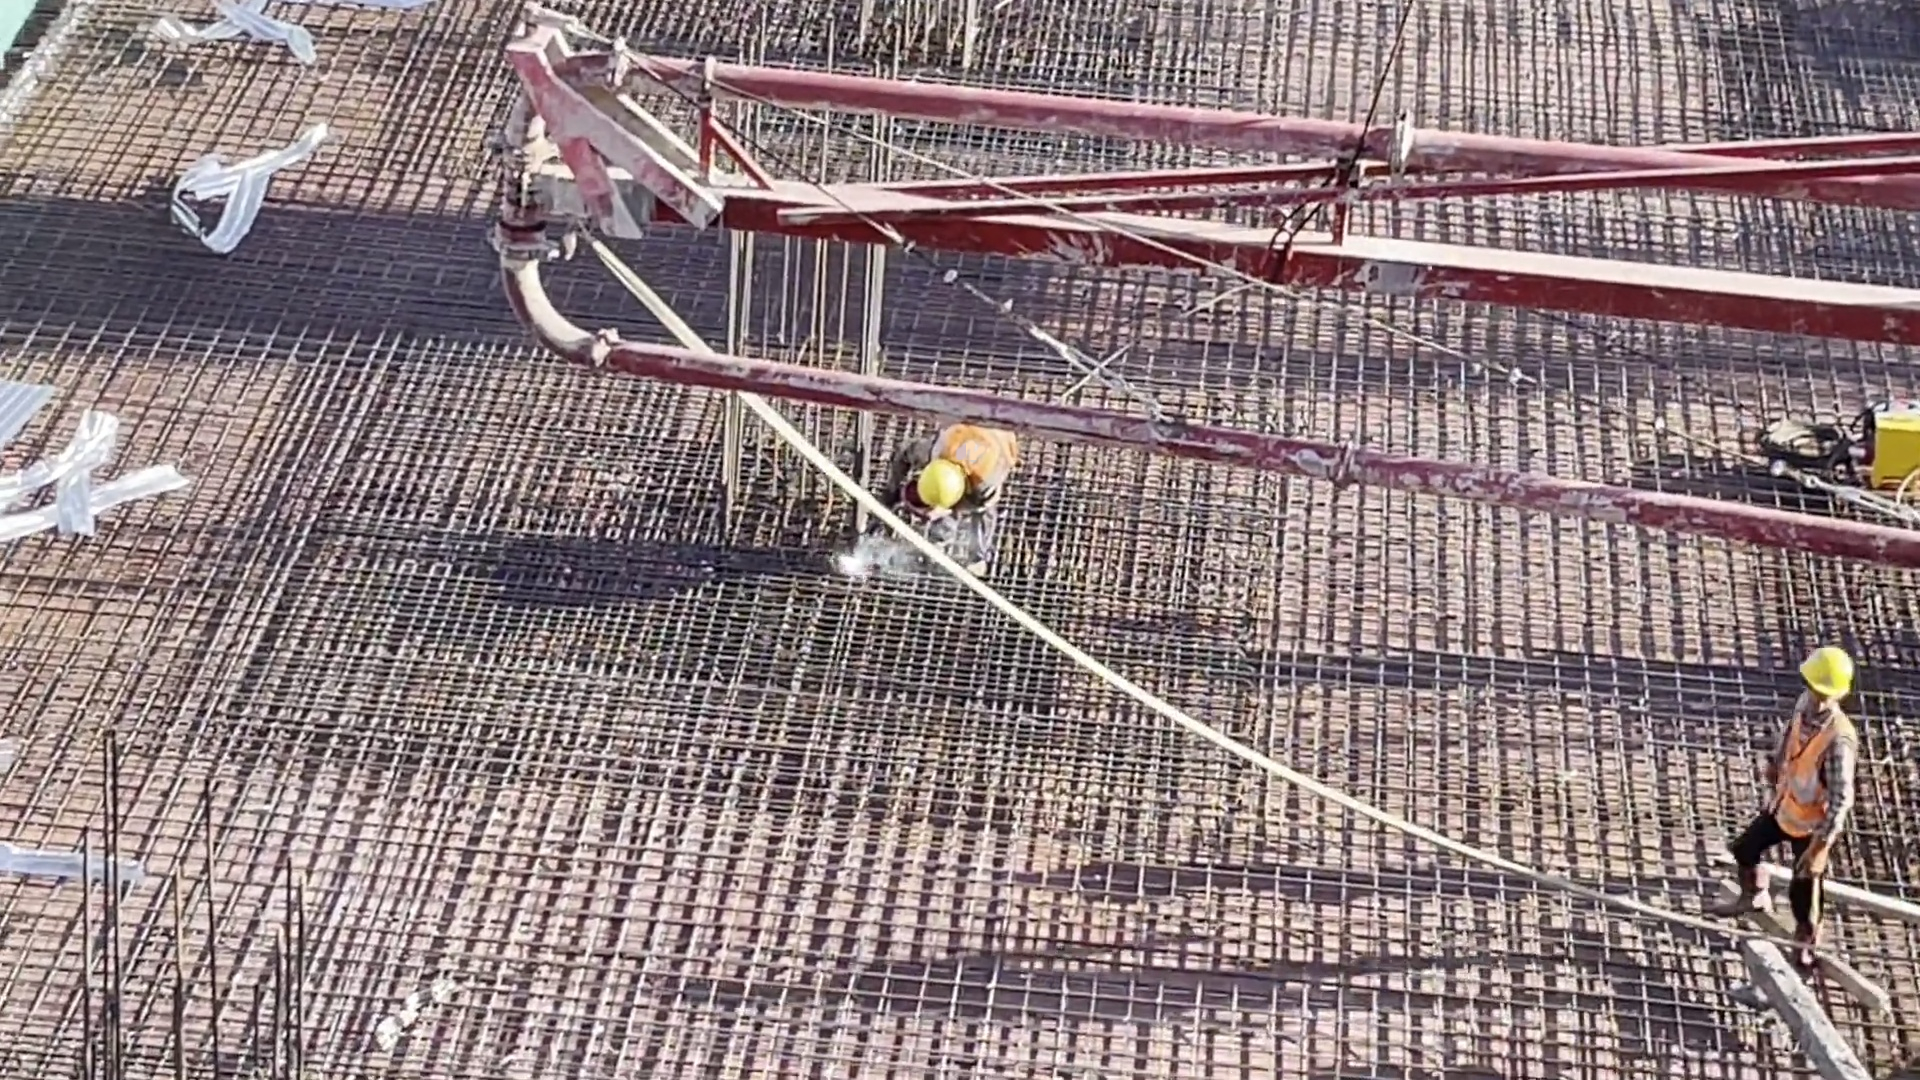helmet: (1799, 648, 1860, 699), (917, 469, 959, 511)
person: (1732, 652, 1869, 971), (875, 416, 1036, 571)
vest: (1776, 713, 1832, 837), (940, 423, 1019, 476)
